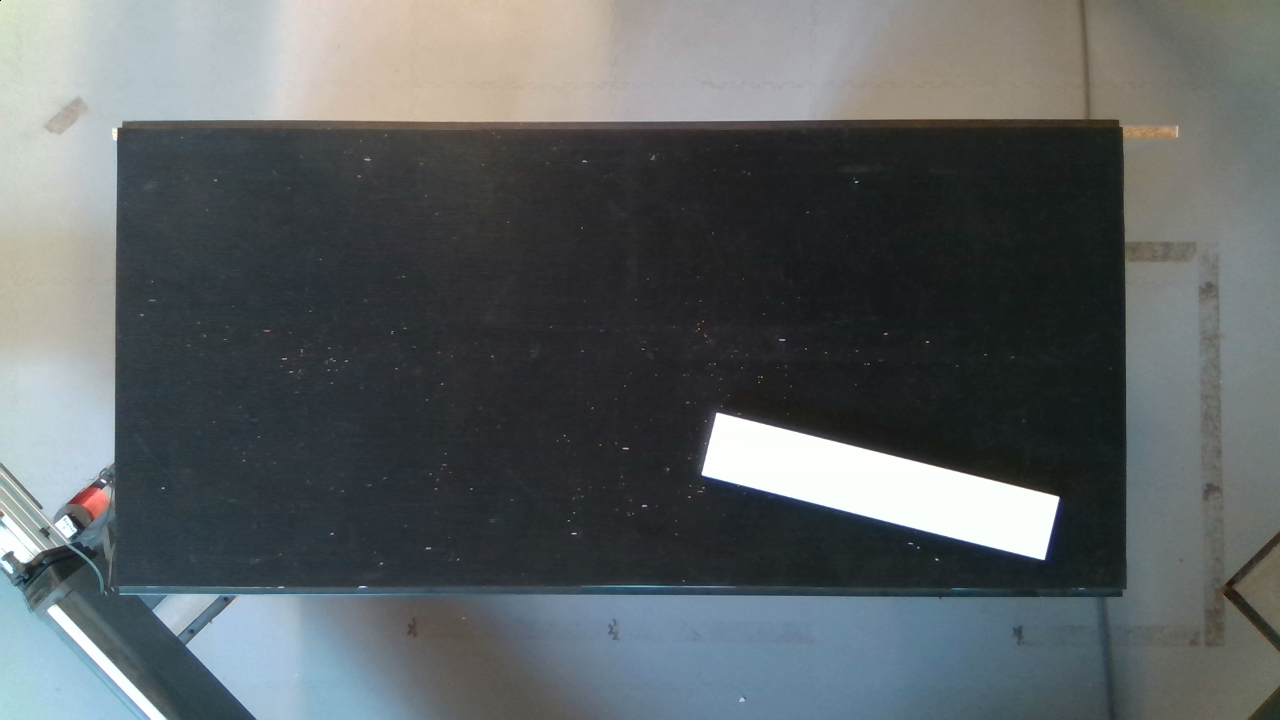part1: (700, 400, 1073, 570)
